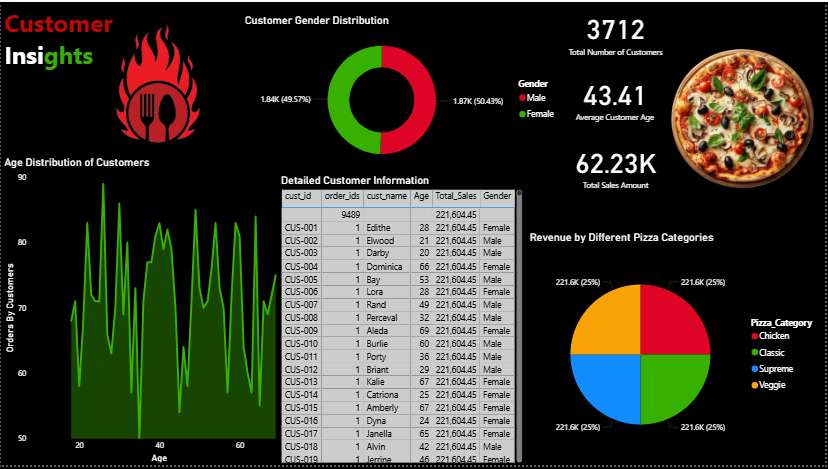

This screenshot's page, from the dashboard's own definition file:
{"tool":"powerbi","page":{"name":" Customer Insights","canvas":[1280,720],"ordinal":1},"visuals":[{"type":"donutChart","title":"Customer Gender Distribution","fields":{"Y":["CountNonNull(customers.gender)"],"Category":["customers.gender"]},"box":[374,0,500.7,266.6],"z":0},{"type":"areaChart","title":"Age Distribution of Customers","fields":{"Category":["customers.age"],"Y":["CountNonNull(customers.cust_id)"]},"box":[0,238.9,447.6,481.4],"z":1000},{"type":"card","fields":{"Values":["Count(customers.cust_id)"]},"box":[868.6,0,171.3,92.9],"z":2000},{"type":"card","fields":{"Values":["Avg(customers.age)"]},"box":[868.6,102.5,168.9,92.9],"z":3000},{"type":"card","fields":{"Values":["Sum(customers.total_price)"]},"box":[868.6,206.3,171.3,92.9],"z":4000},{"type":"tableEx","title":"Detailed Customer Information","fields":{"Values":["customers.cust_id","orders.order_id","customers.cust_firstname","Sum(customers.age)","Sum(Query4.total_sales)","customers.gender"]},"box":[430.7,266.6,384.9,453.6],"z":5000},{"type":"pieChart","title":"Revenue by Different Pizza Categories","fields":{"Category":["orders.pizza_category"],"Y":["Sum(Query9.total_revenue)"]},"box":[815.6,336.6,464.5,383.6],"z":6000},{"type":"textbox","box":[0,0,224.4,133.9],"z":7000},{"type":"image","box":[1023.1,0,257,359.5],"z":8000},{"type":"image","box":[103.8,0,281.1,253.4],"z":10000}]}

Visuals, with their boxes in screenshot pixels (x1, y1, x2, y2), scaled from the page's 1280x720 canvas onto the 828x469 screenshot:
"Customer Gender Distribution" donutChart: 242:0:566:174
"Age Distribution of Customers" areaChart: 0:156:290:468
card - Count(customers.cust_id): 562:0:673:61
card - Avg(customers.age): 562:67:671:127
card - Sum(customers.total_price): 562:134:673:195
"Detailed Customer Information" tableEx: 279:174:528:468
"Revenue by Different Pizza Categories" pieChart: 528:219:827:468
textbox: 0:0:145:87
image: 662:0:827:234
image: 67:0:249:165
